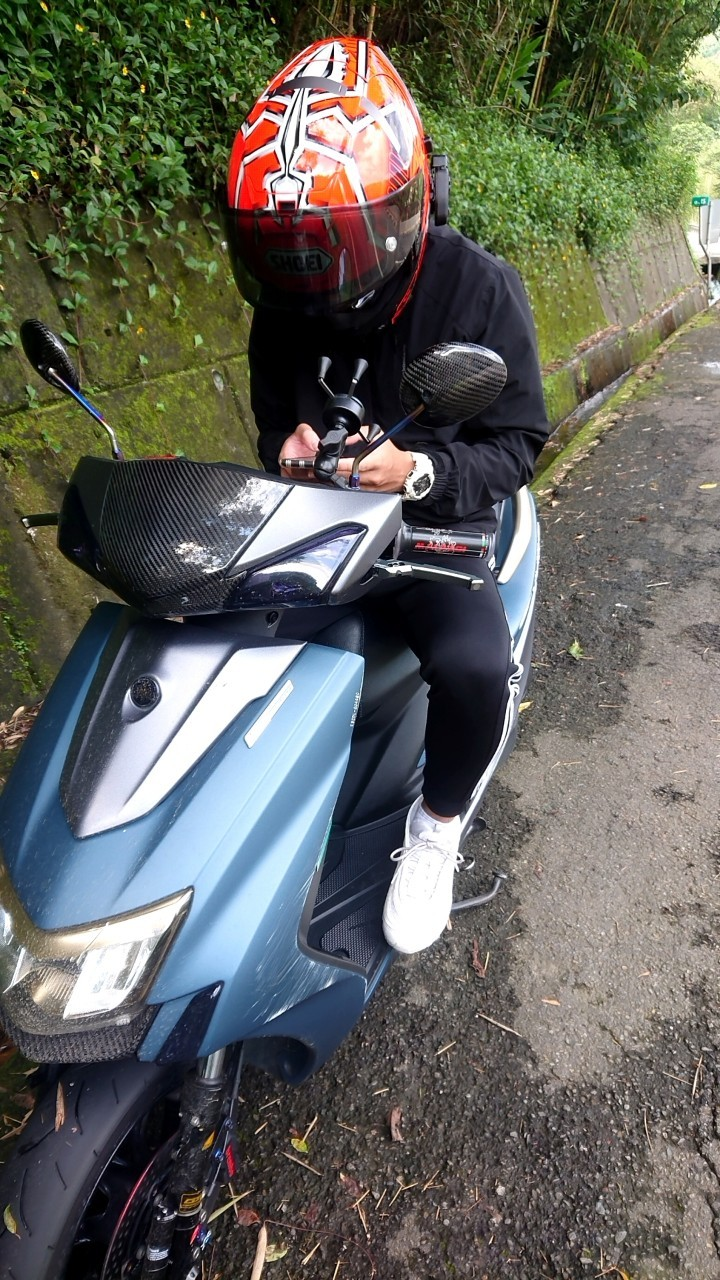people: (218, 47, 510, 945)
